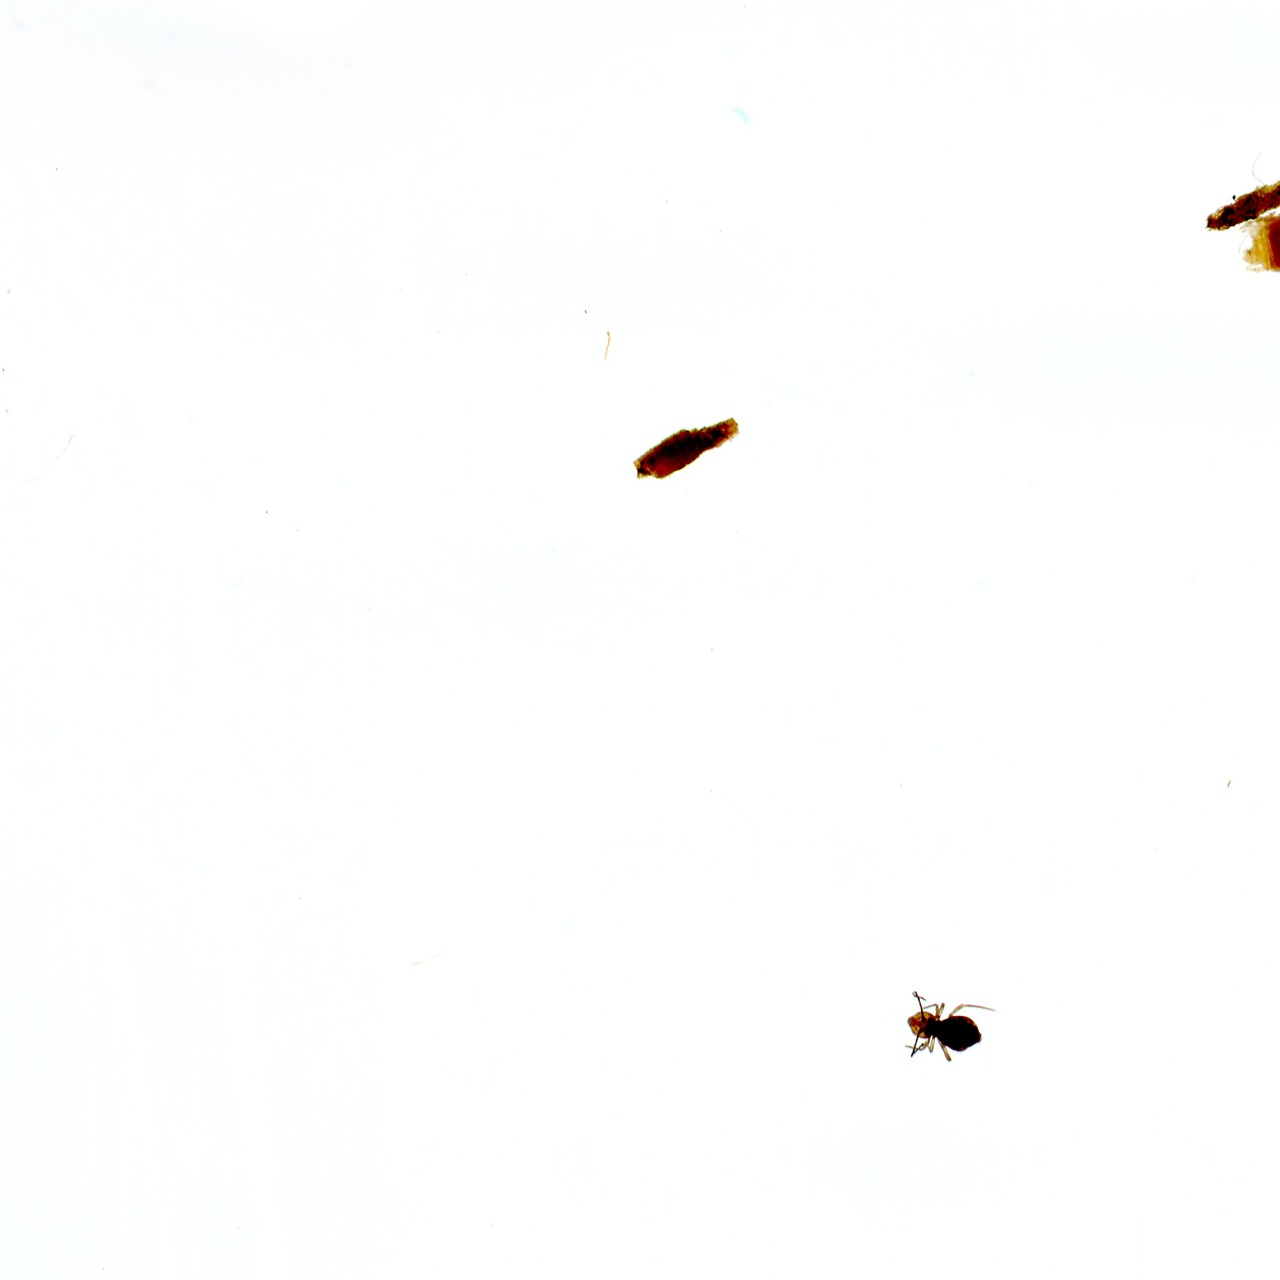arthropod: (893, 986, 1001, 1070)
